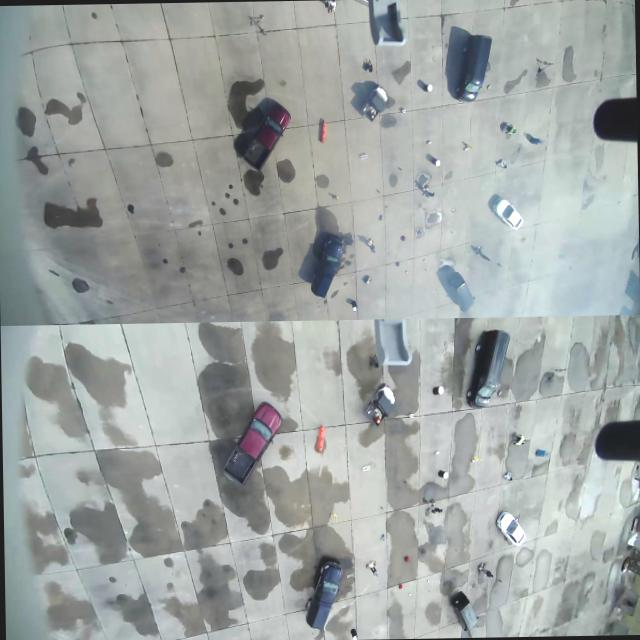car: (220, 398, 284, 485), (237, 90, 292, 184), (465, 324, 514, 415), (299, 548, 343, 634), (454, 30, 502, 101), (307, 232, 350, 304), (442, 588, 484, 636), (494, 509, 526, 545), (490, 194, 522, 228)
